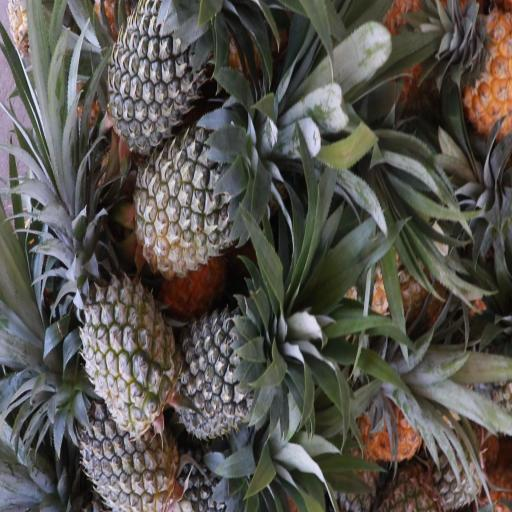------------------------------: (141, 124, 255, 265), (85, 272, 173, 424)
Pineapple - v8 v1: (451, 7, 512, 122)
